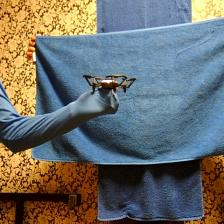drone: (82, 72, 139, 93)
